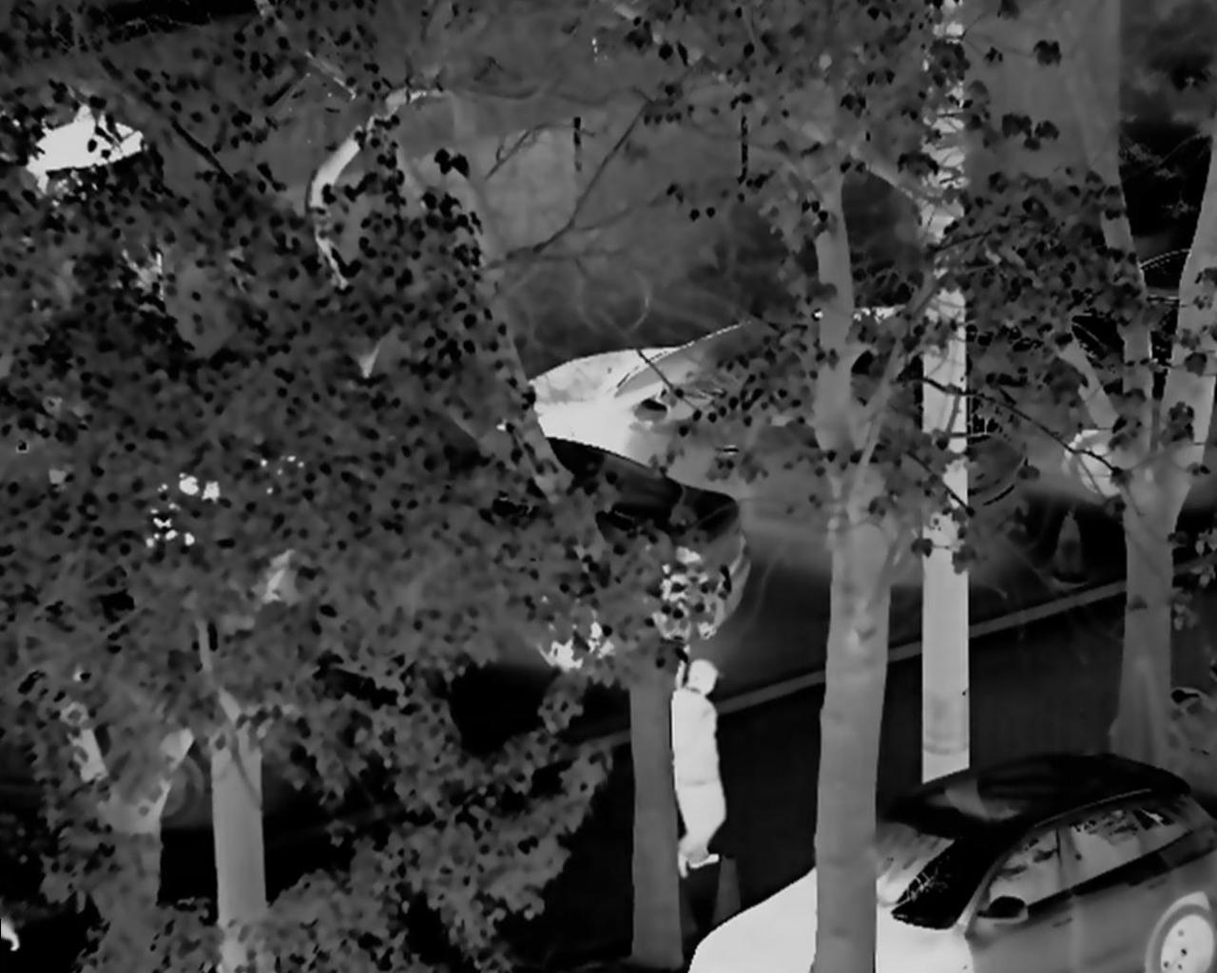person: (655, 633, 737, 877)
